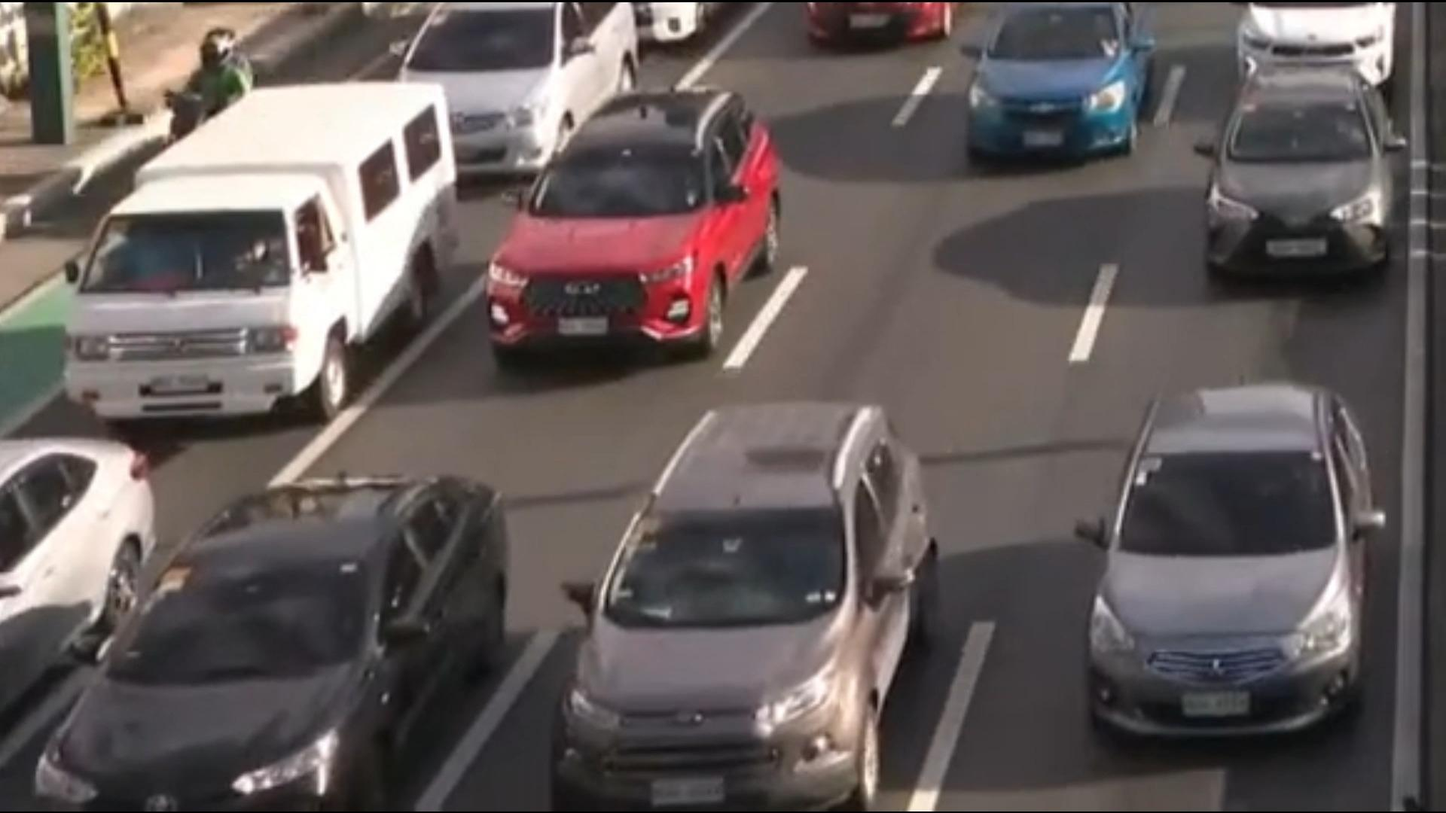Motorcycle: (149, 8, 275, 160)
Multicab: (46, 66, 494, 469)
SUV: (503, 405, 995, 813), (456, 78, 812, 406), (402, 0, 667, 174)
Sedan: (6, 443, 541, 813), (1055, 350, 1396, 767), (1186, 64, 1412, 320), (0, 424, 175, 709), (938, 2, 1165, 181)
